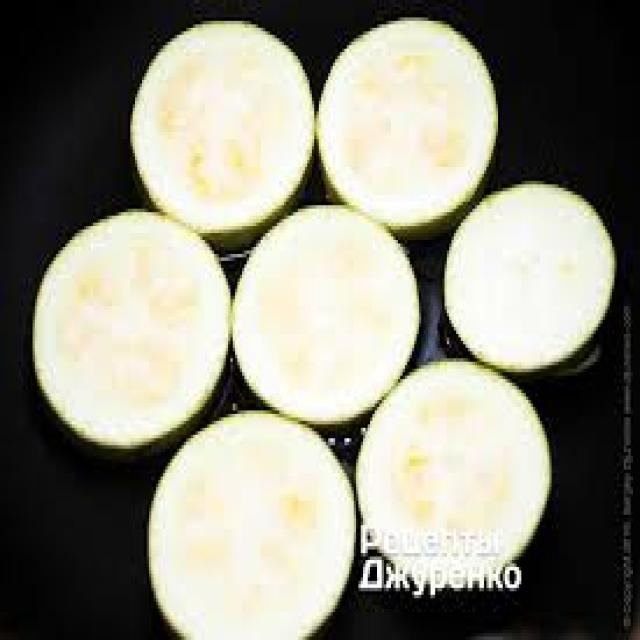vegetable marrow: (136, 381, 357, 640), (30, 197, 248, 452), (360, 345, 556, 612), (233, 184, 442, 423), (96, 0, 312, 225), (318, 0, 505, 248), (432, 174, 640, 383)
